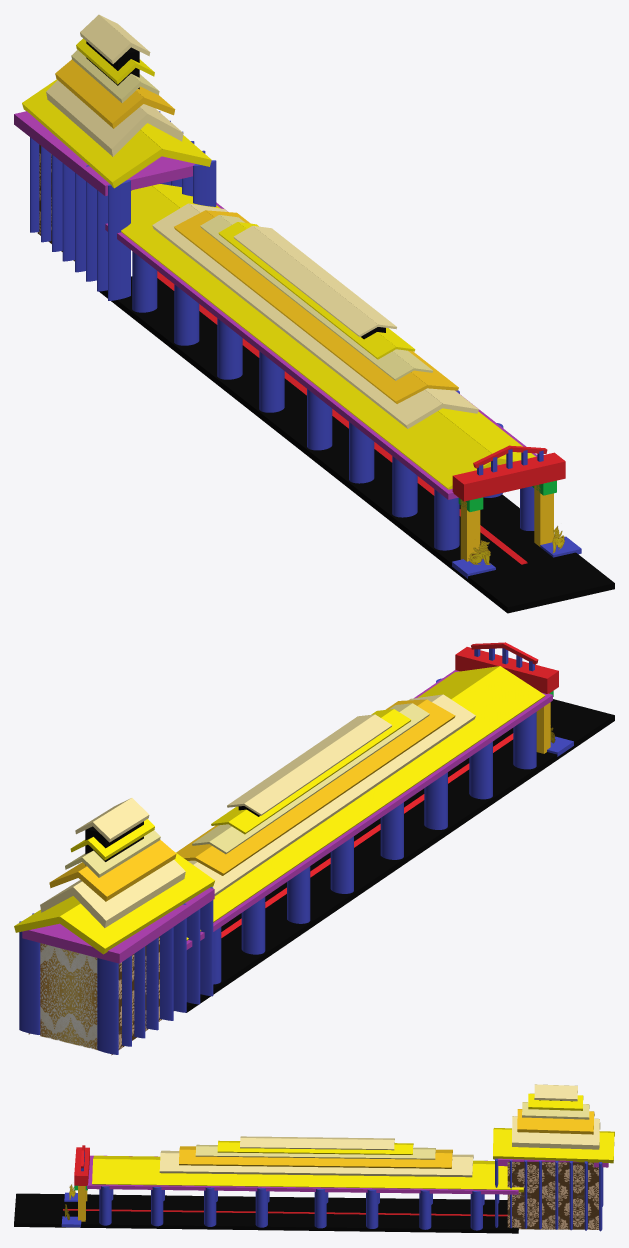
The model's file is pagoda.glb.
The picture shows the model from 3 angles, top to bottom: view 1: azimuth 30°, elevation 25°; view 2: azimuth 150°, elevation 25°; view 3: azimuth 270°, elevation 25°; orthographic projection. The views are drawn at different scales.
Visible parts, largest first — view 1: Object_5, node_id307_48, node_id719_115, node_id266_11, node_id467_89, node_id476_98, node_id328_54, node_id318_51, node_id279_31, node_id828_152, Object_9, node_id387_70 (+13 smaller); view 2: Object_5, node_id719_115, node_id307_48, node_id279_31, Object_21, node_id467_89, node_id328_54, node_id318_51, node_id828_152, node_id266_11, Object_9, node_id387_70 (+15 smaller); view 3: Object_5, node_id467_89, Object_17, node_id470_92, node_id476_98, node_id473_95, Object_9, node_id827_150, node_id719_115, node_id307_48, node_id453_75, node_id823_140 (+11 smaller).
Part boxes in pixels (x1,y1,x2,y2): Object_5: (99,276,614,613); node_id307_48: (121,185,535,482); node_id719_115: (30,111,216,300); node_id266_11: (452,445,581,578); node_id467_89: (152,184,515,489); node_id476_98: (157,271,534,550); node_id328_54: (174,210,427,403); node_id318_51: (152,203,442,428); node_id279_31: (132,251,521,547); node_id828_152: (22,79,162,188); Object_9: (105,202,537,499); node_id387_70: (234,226,377,336); Object_5: (185,699,614,1012); node_id719_115: (19,887,213,1054); node_id307_48: (186,666,537,940); node_id279_31: (214,678,534,984); Object_21: (40,943,97,1050); node_id467_89: (373,666,545,808); node_id328_54: (195,699,455,875); node_id318_51: (193,694,475,895); node_id828_152: (58,851,214,954); node_id266_11: (455,642,573,756); Object_9: (186,670,552,949); node_id387_70: (244,714,392,815); Object_5: (14,1193,518,1233); node_id467_89: (93,1155,523,1192); Object_17: (507,1162,598,1229); node_id470_92: (159,1153,473,1177); node_id476_98: (99,1186,484,1230); node_id473_95: (179,1149,452,1168); Object_9: (87,1155,518,1194); node_id827_150: (493,1129,614,1163); node_id719_115: (495,1158,603,1231); node_id307_48: (92,1158,494,1185); node_id453_75: (240,1138,394,1150); node_id823_140: (512,1116,599,1149).
Bounding box in the file's own units: 0.1855 × 0.3031 × 1.25.
62 materials, 62 textured.
